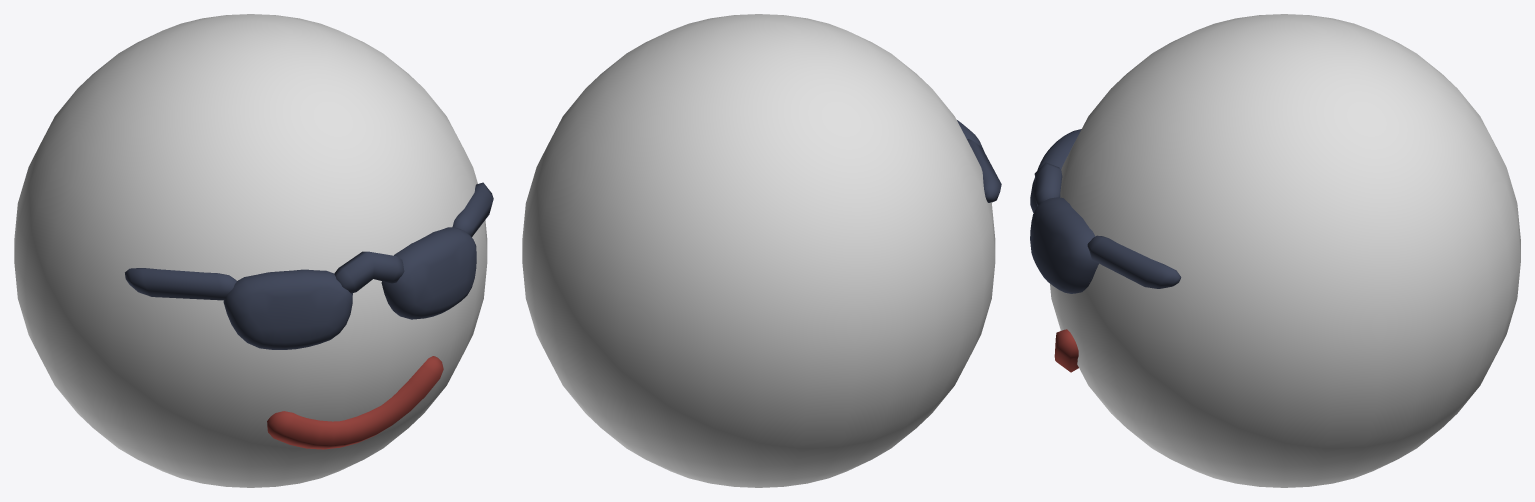
The model's file is face_cool.glb.
3 renders of one model, left to right at view 1: azimuth 30°, elevation 25°; view 2: azimuth 150°, elevation 25°; view 3: azimuth 270°, elevation 25°, orthographic.
Visible parts, largest first — view 1: face_cool; view 2: face_cool; view 3: face_cool.
Part boxes in pixels (bbox=[...]): face_cool: bbox=[14, 14, 493, 487]; face_cool: bbox=[522, 14, 1001, 487]; face_cool: bbox=[1030, 14, 1520, 487].
Bounding box in the file's own units: 1 × 1 × 1.03.
